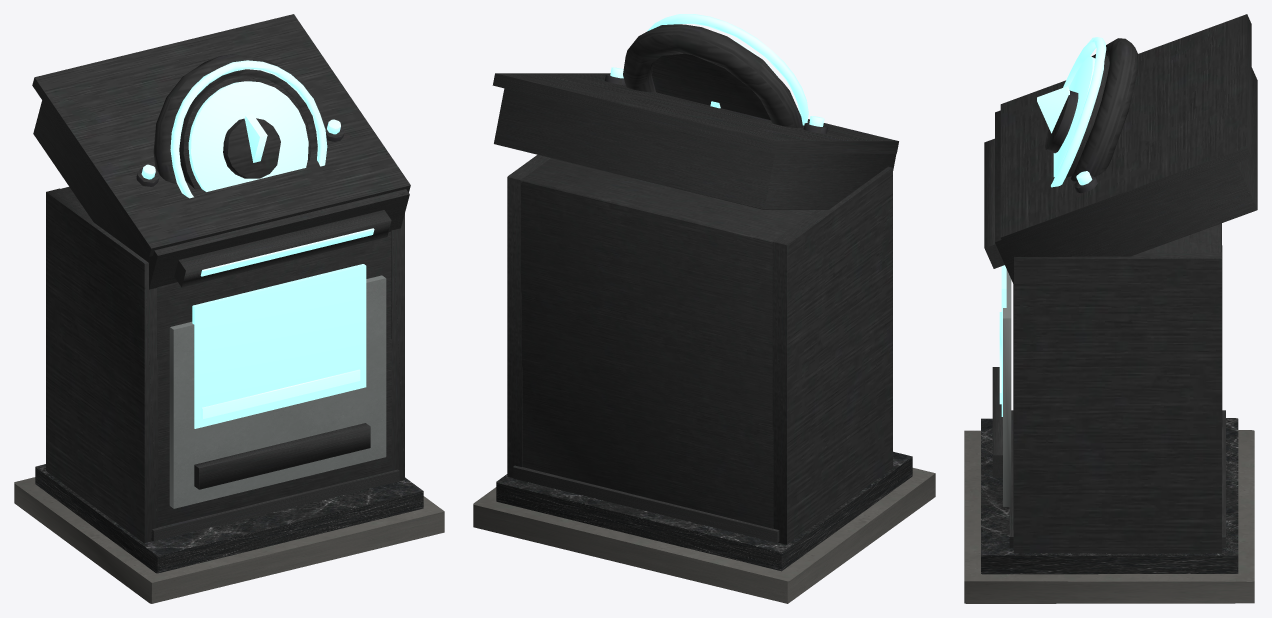
File: hp_room_l07_p08.glb
The picture shows the model from 3 angles, left to right: view 1: azimuth 30°, elevation 25°; view 2: azimuth 150°, elevation 25°; view 3: azimuth 270°, elevation 25°; orthographic projection. The views are drawn at different scales.
Parts seen in each view (by area): view 1: room_l07_p08; view 2: room_l07_p08; view 3: room_l07_p08.
Part boxes in pixels (x1=…): room_l07_p08: x1=14, y1=14, x2=444, y2=603; room_l07_p08: x1=473, y1=14, x2=935, y2=603; room_l07_p08: x1=964, y1=14, x2=1257, y2=603.
Bounding box in the file's own units: 0.86 × 1.28 × 0.7022.
Materials: 8 (6 with a texture image).
